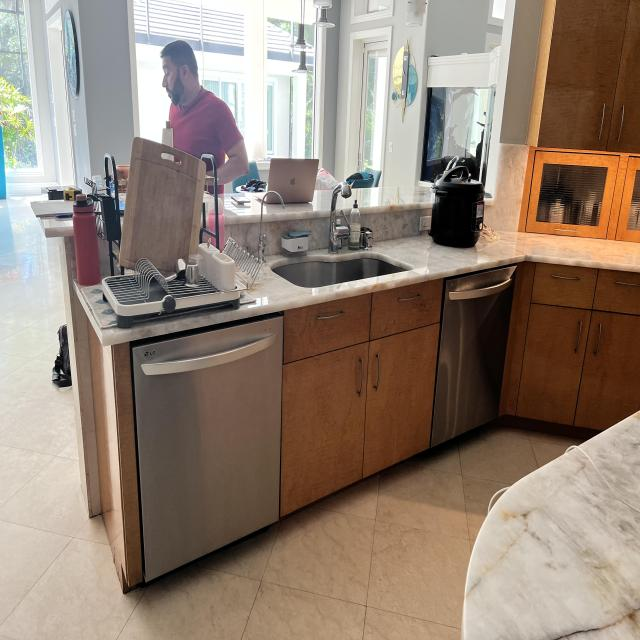Appliance_Dishwasher: (129, 313, 284, 584), (429, 267, 517, 449)
Appliance_Sink: (272, 259, 404, 289), (330, 182, 352, 252)
Cabinet_Glass: (518, 146, 640, 245)
Cabinet_Inset: (282, 280, 444, 518), (498, 262, 640, 433), (529, 0, 640, 155)
Countertop_Marble: (100, 231, 640, 346), (460, 411, 640, 640)
